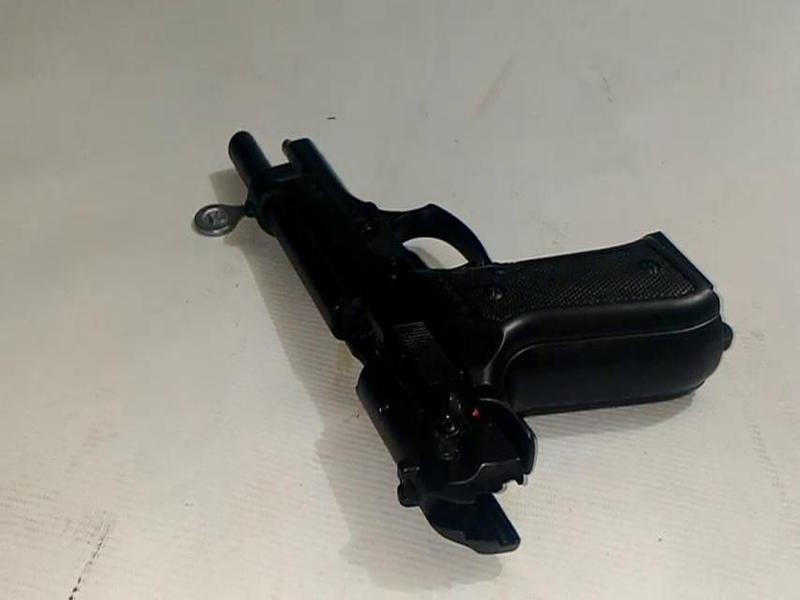Pistola: (193, 104, 772, 582)
